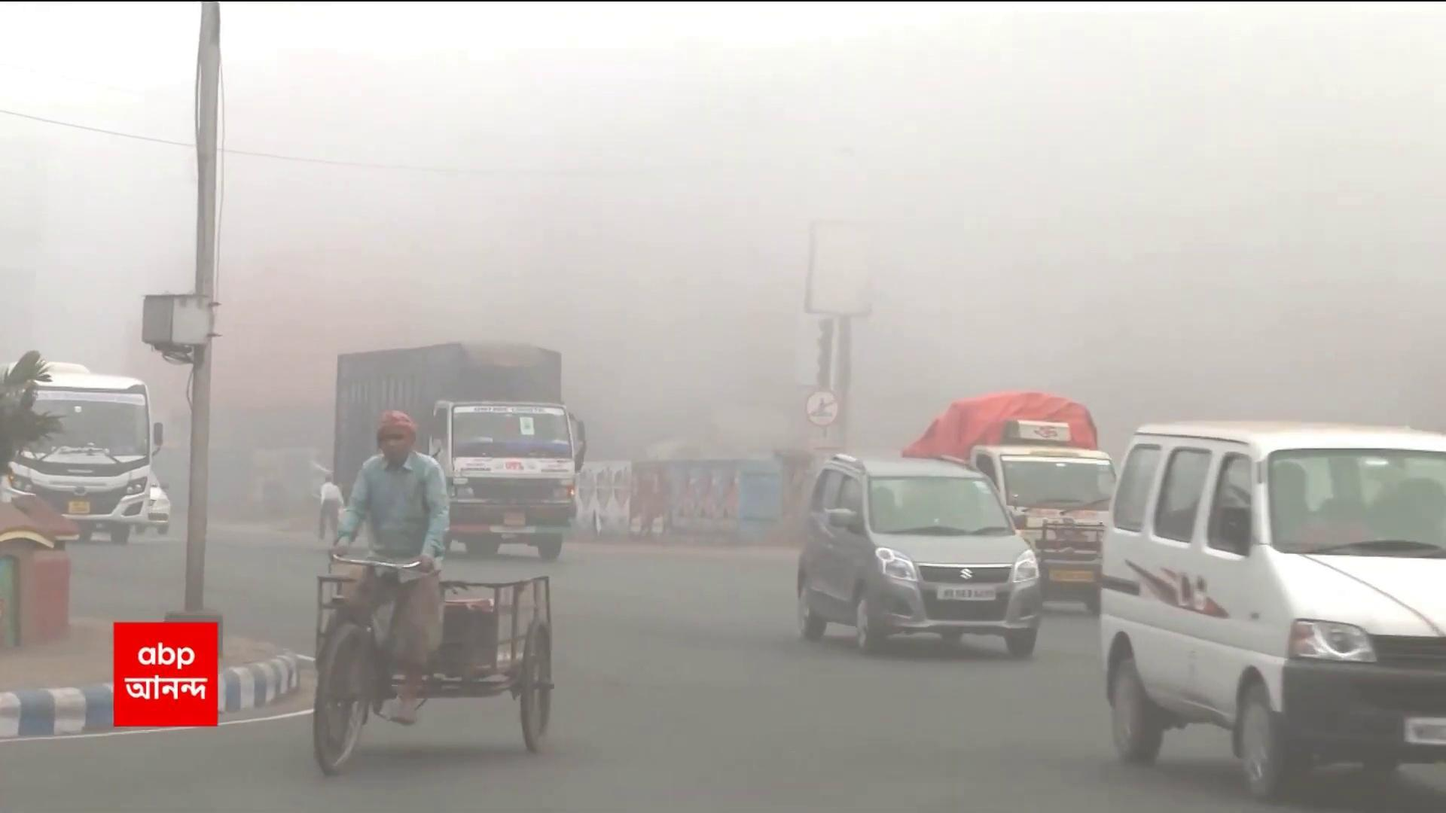Bus: (2, 361, 162, 557)
Car: (1096, 415, 1446, 813), (791, 440, 1039, 658)
Truck: (320, 338, 580, 555)
